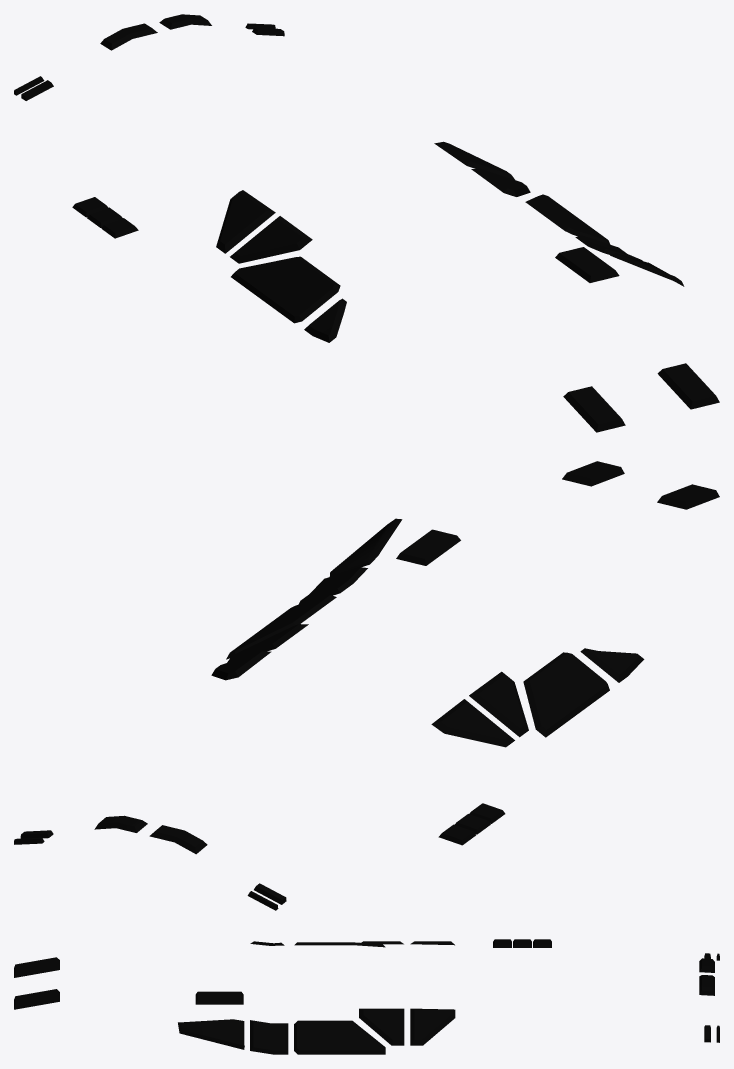
Rendered from hgn_cf_targ_01_t1.glb.
3 renders of one model, top to bottom at view 1: azimuth 30°, elevation 25°; view 2: azimuth 150°, elevation 25°; view 3: azimuth 270°, elevation 25°, orthographic. The views are drawn at different scales.
Parts seen in each view (by area): view 1: hgn_assault_frigate_01_LOD0; view 2: hgn_assault_frigate_01_LOD0; view 3: hgn_assault_frigate_01_LOD0.
Part boxes in pixels (x1=…): hgn_assault_frigate_01_LOD0: x1=14, y1=14, x2=719, y2=432; hgn_assault_frigate_01_LOD0: x1=14, y1=461, x2=719, y2=910; hgn_assault_frigate_01_LOD0: x1=14, y1=939, x2=719, y2=1054.
Size of what is drawn, in the model's own units: 0.8723 by 0.13 by 2.18.
Materials: 1 (1 with a texture image).
